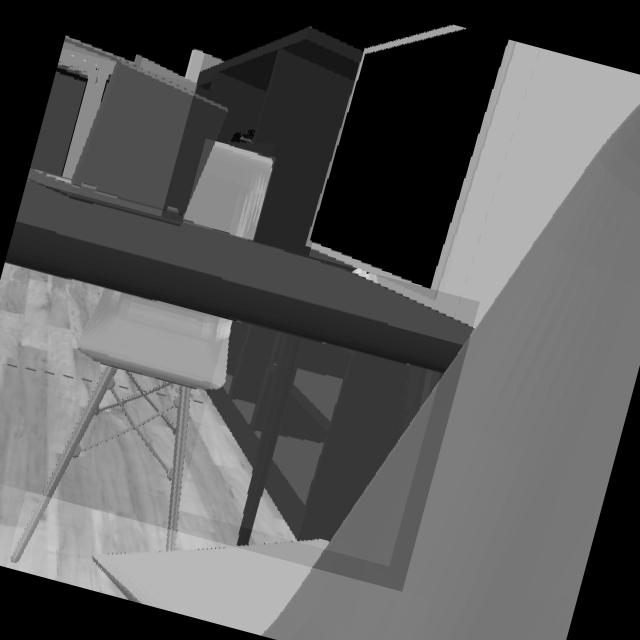bookshelf: (207, 322, 439, 543), (195, 27, 362, 257)
chair: (7, 99, 640, 640), (184, 143, 272, 240)
laptop: (26, 63, 228, 229)
monitor: (305, 23, 510, 290)
table: (4, 181, 472, 547)
